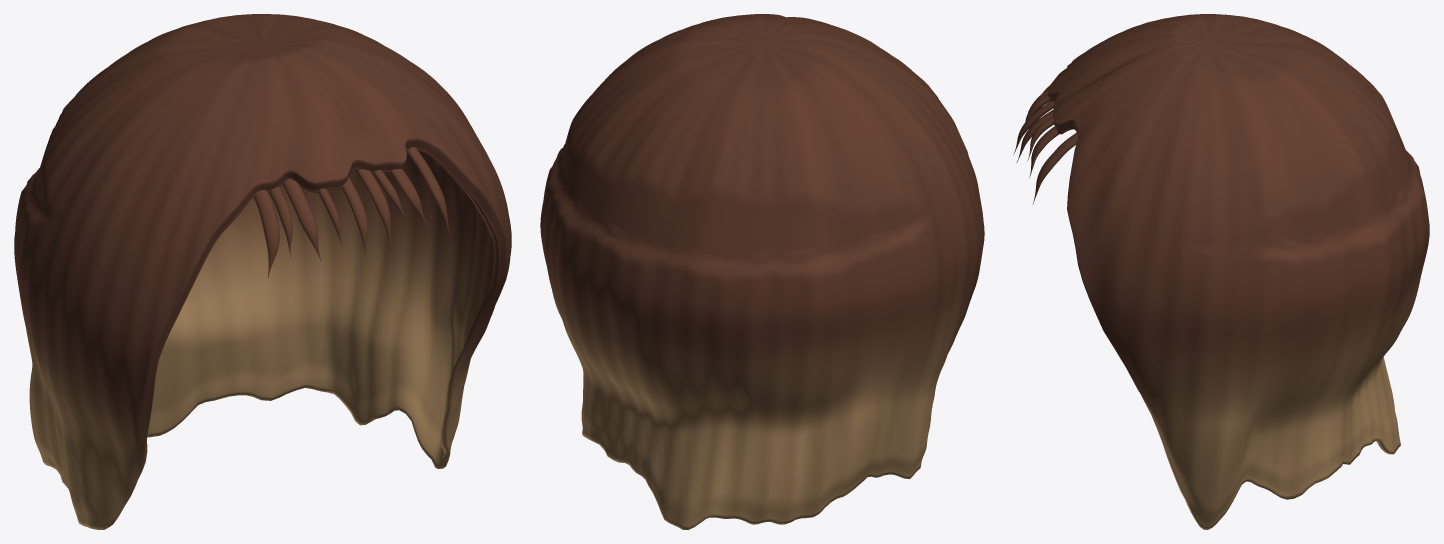
File: side-sweep-bucket-ombre.glb
3 views of the same model, side by side, from view 1: azimuth 30°, elevation 25°; view 2: azimuth 150°, elevation 25°; view 3: azimuth 270°, elevation 25° (orthographic). The views are drawn at different scales.
Visible parts, largest first — view 1: Hair / layered lob, Fringe / tapered lock 01, Fringe / tapered lock 03, Fringe / tapered lock 09, Fringe / tapered lock 06, Fringe / tapered lock 05, Fringe / tapered lock 02, Fringe / tapered lock 08; view 2: Hair / layered lob; view 3: Hair / layered lob, Fringe / tapered lock 09.
Boxes of the visible parts, bbox=[...] form: Hair / layered lob: bbox=[14, 14, 511, 529]; Fringe / tapered lock 01: bbox=[253, 189, 279, 278]; Fringe / tapered lock 03: bbox=[282, 178, 321, 261]; Fringe / tapered lock 09: bbox=[406, 147, 450, 237]; Fringe / tapered lock 06: bbox=[355, 169, 392, 245]; Fringe / tapered lock 05: bbox=[342, 177, 367, 259]; Fringe / tapered lock 02: bbox=[269, 186, 292, 257]; Fringe / tapered lock 08: bbox=[391, 169, 427, 226]; Hair / layered lob: bbox=[540, 14, 984, 529]; Hair / layered lob: bbox=[1048, 14, 1429, 529]; Fringe / tapered lock 09: bbox=[1032, 132, 1078, 204].
Bounding box in the file's own units: 0.8388 × 0.8732 × 0.7904.
